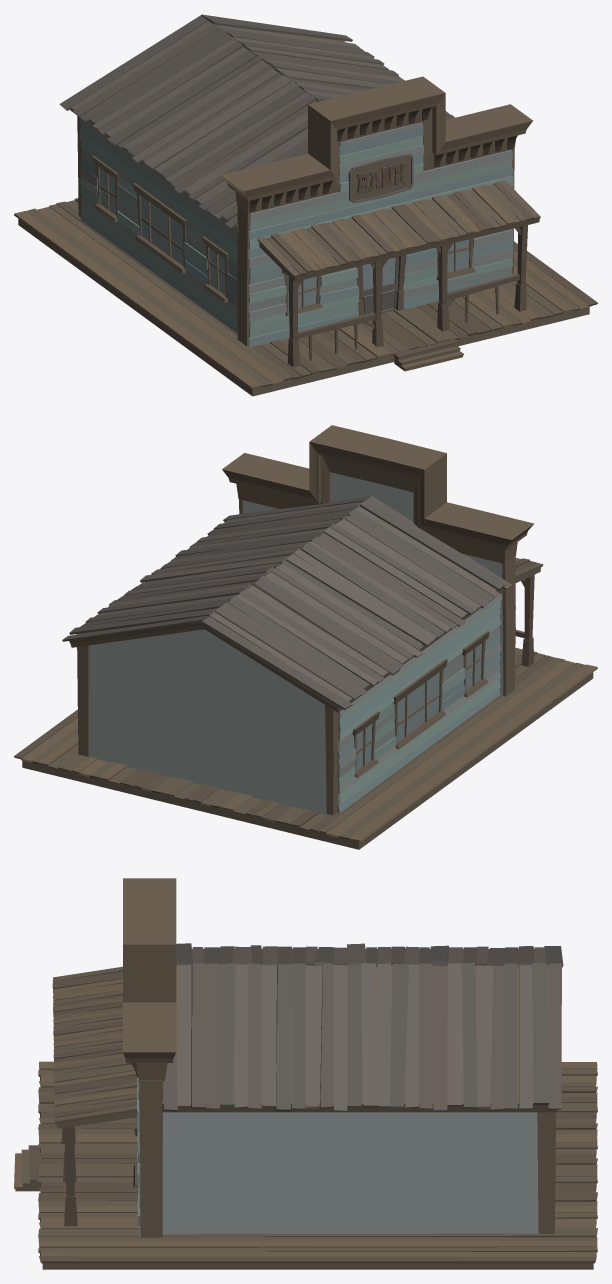
Rendered from bank_v02 1.fbx.
The picture shows the model from 3 angles, top to bottom: view 1: azimuth 30°, elevation 25°; view 2: azimuth 150°, elevation 25°; view 3: azimuth 270°, elevation 25°; orthographic projection. The views are drawn at different scales.
Parts seen in each view (by area): view 1: MSH_portico_esterno; view 2: MSH_portico_esterno, MSH_banca_muro_interno; view 3: MSH_portico_esterno, MSH_banca_muro_interno.
Part boxes in pixels (left/top/right/bottom): MSH_portico_esterno: left=14, top=14, right=597, bottom=396; MSH_portico_esterno: left=14, top=425, right=597, bottom=849; MSH_banca_muro_interno: left=77, top=645, right=338, bottom=815; MSH_portico_esterno: left=14, top=878, right=597, bottom=1269; MSH_banca_muro_interno: left=537, top=1112, right=555, bottom=1233.
Size of the model in its own units: 220 by 136 by 273.
